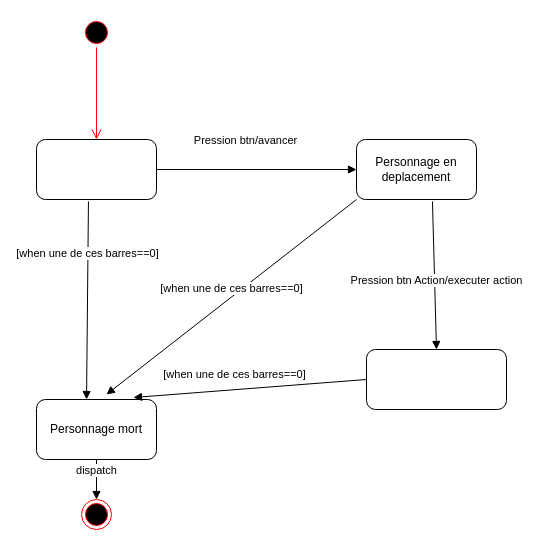
The diagram is 540 pixels wide and 547 high, and some of its shapes have lost their labels. Here are the shapes that lost their labels. From the top down, the centre of each, then its label:
At [96,169]: "Personnage en vie".
At [436,379]: "Personnage en action".
